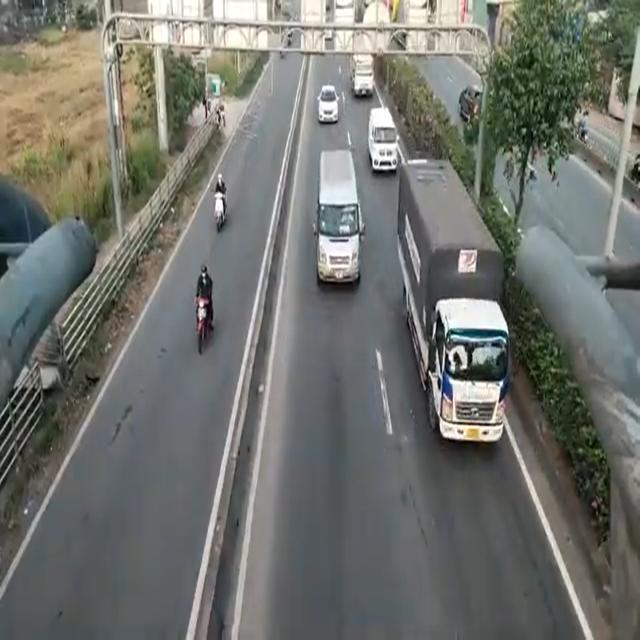car: (368, 97, 395, 177), (316, 78, 341, 125)
motor: (192, 291, 215, 349), (213, 176, 224, 246)
truck: (396, 151, 510, 448), (310, 145, 367, 287)
